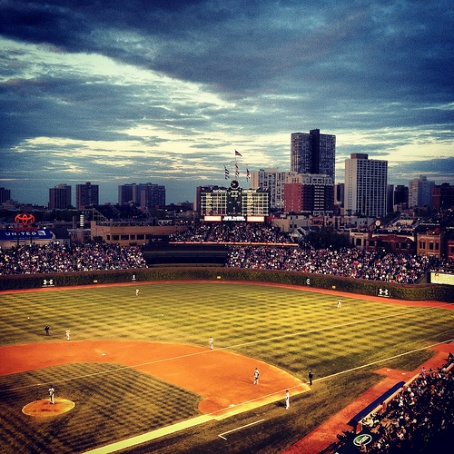building: (291, 126, 331, 215), (343, 150, 389, 217), (243, 168, 297, 215), (192, 188, 265, 222), (120, 179, 165, 206), (408, 176, 434, 215), (72, 178, 101, 211), (40, 184, 72, 210)
sky: (1, 1, 445, 167)
